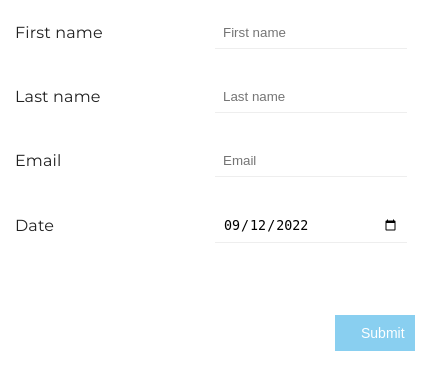
User › it should validate firstName field
Step 1. Type "Doe" into the field labelled "Last name" → (311, 97), box x1=215 y1=81 x2=407 y2=113
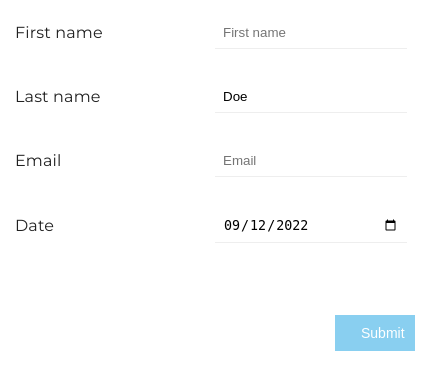
Step 2. Type "email@test.pl" into the field labelled "Email" → (311, 161), box x1=215 y1=145 x2=407 y2=177
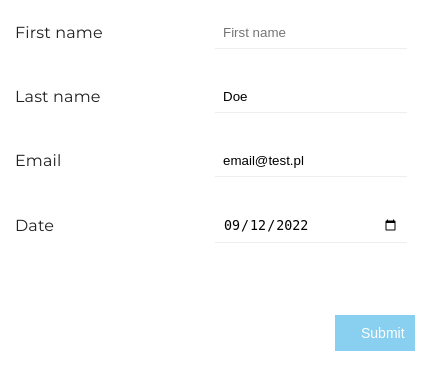
Step 3. Type "2022-10-09" into the date field labelled "Date" → (311, 226), box x1=215 y1=209 x2=407 y2=243
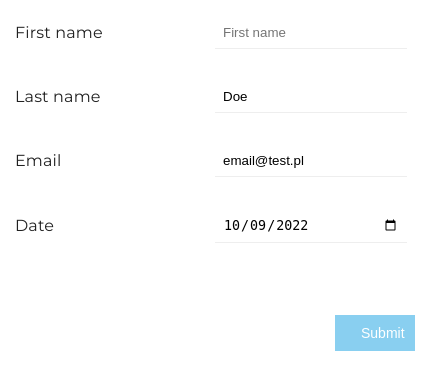
Step 4. Click the button "Submit" → (375, 333), box x1=335 y1=315 x2=415 y2=351
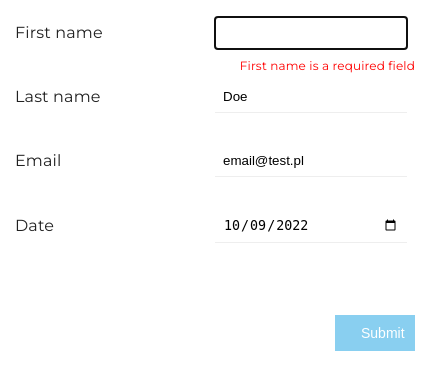
Now the text "First name is a required field" is shown, box x1=240 y1=58 x2=415 y2=73
